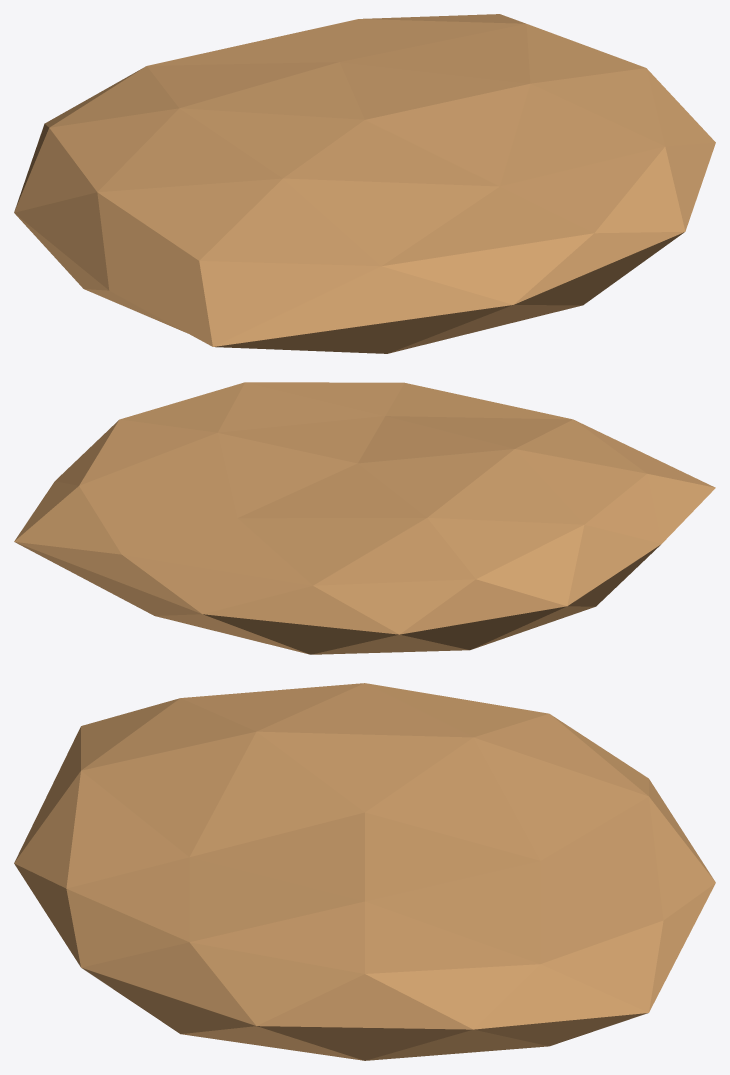
File: Rock Orange Md 003.fbx
3 views of the same model, one above another, from view 1: azimuth 30°, elevation 25°; view 2: azimuth 150°, elevation 25°; view 3: azimuth 270°, elevation 25° (orthographic). The views are drawn at different scales.
Visible parts, largest first — view 1: Rock 003.005; view 2: Rock 003.005; view 3: Rock 003.005.
Part boxes in pixels (x1=…): Rock 003.005: x1=14, y1=14, x2=715, y2=353; Rock 003.005: x1=14, y1=382, x2=715, y2=654; Rock 003.005: x1=14, y1=683, x2=715, y2=1060.
Bounding box in the file's own units: 144 × 29.03 × 136.
